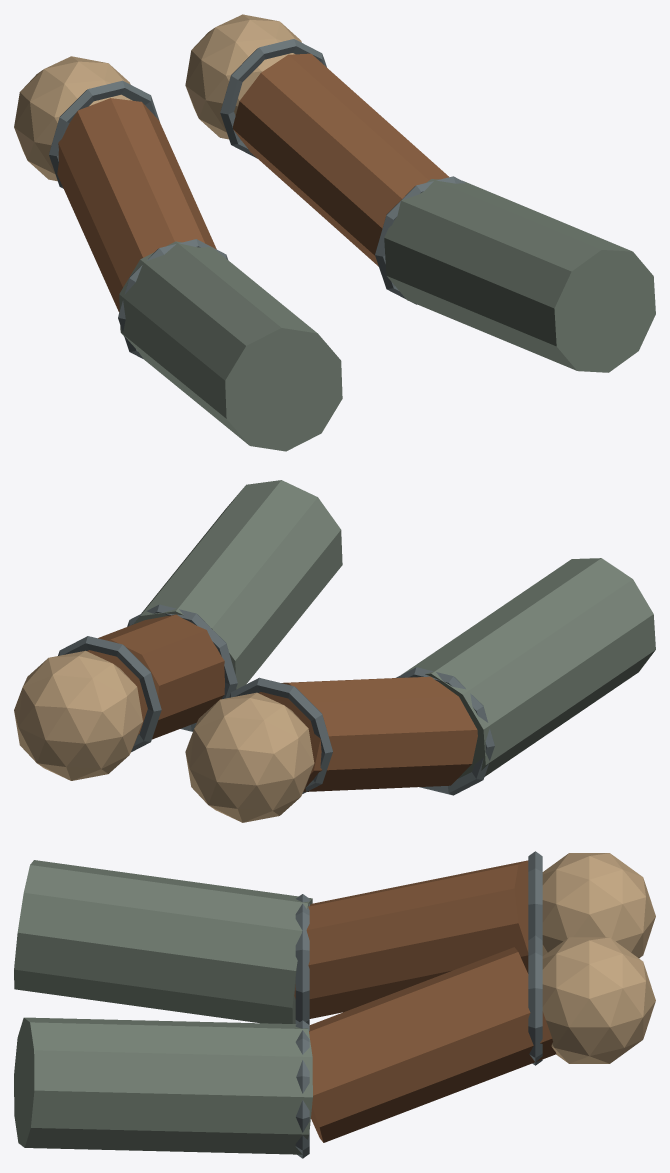
The model's file is first_person_arms.glb.
3 renders of one model, top to bottom at view 1: azimuth 30°, elevation 25°; view 2: azimuth 150°, elevation 25°; view 3: azimuth 270°, elevation 25°, orthographic.
Parts seen in each view (by area): view 1: Arm_1_Sleeve, Arm_-1_Sleeve, Arm_1_Bracer, Arm_-1_Bracer, Arm_1_Hand, Arm_-1_Hand, Arm_1_BracerBandB, Arm_-1_BracerBandB, Arm_1_BracerBandA, Arm_-1_BracerBandA; view 2: Arm_-1_Sleeve, Arm_1_Sleeve, Arm_-1_Bracer, Arm_1_Hand, Arm_-1_Hand, Arm_1_Bracer, Arm_1_BracerBandB, Arm_-1_BracerBandB, Arm_-1_BracerBandA, Arm_1_BracerBandA; view 3: Arm_1_Sleeve, Arm_-1_Sleeve, Arm_1_Bracer, Arm_-1_Bracer, Arm_1_Hand, Arm_-1_Hand, Arm_1_BracerBandB, Arm_-1_BracerBandA, Arm_-1_BracerBandB, Arm_1_BracerBandA.
Boxes of the visible parts, x1,y1,x2,y2 form: Arm_1_Sleeve: [384, 179, 655, 372]; Arm_-1_Sleeve: [119, 241, 342, 451]; Arm_1_Bracer: [233, 53, 449, 266]; Arm_-1_Bracer: [57, 98, 216, 312]; Arm_1_Hand: [185, 14, 301, 139]; Arm_-1_Hand: [14, 56, 132, 181]; Arm_1_BracerBandB: [220, 39, 326, 158]; Arm_-1_BracerBandB: [49, 80, 159, 188]; Arm_1_BracerBandA: [375, 176, 465, 304]; Arm_-1_BracerBandA: [118, 239, 227, 358]; Arm_-1_Sleeve: [401, 558, 655, 787]; Arm_1_Sleeve: [133, 480, 342, 689]; Arm_-1_Bracer: [258, 676, 477, 791]; Arm_1_Hand: [14, 650, 142, 780]; Arm_-1_Hand: [185, 692, 314, 822]; Arm_1_Bracer: [87, 614, 224, 739]; Arm_1_BracerBandB: [58, 636, 161, 752]; Arm_-1_BracerBandB: [229, 677, 332, 793]; Arm_-1_BracerBandA: [396, 667, 494, 795]; Arm_1_BracerBandA: [127, 604, 237, 731]; Arm_1_Sleeve: [14, 1017, 312, 1154]; Arm_-1_Sleeve: [14, 860, 312, 1023]; Arm_1_Bracer: [309, 947, 556, 1142]; Arm_-1_Bracer: [294, 860, 528, 1018]; Arm_1_Hand: [542, 937, 655, 1063]; Arm_-1_Hand: [542, 853, 655, 958]; Arm_1_BracerBandB: [528, 935, 542, 1065]; Arm_-1_BracerBandA: [295, 894, 309, 1024]; Arm_-1_BracerBandB: [528, 851, 542, 940]; Arm_1_BracerBandA: [295, 1020, 309, 1158].
Size of the model in its own units: 1.2 by 0.4998 by 1.54.
